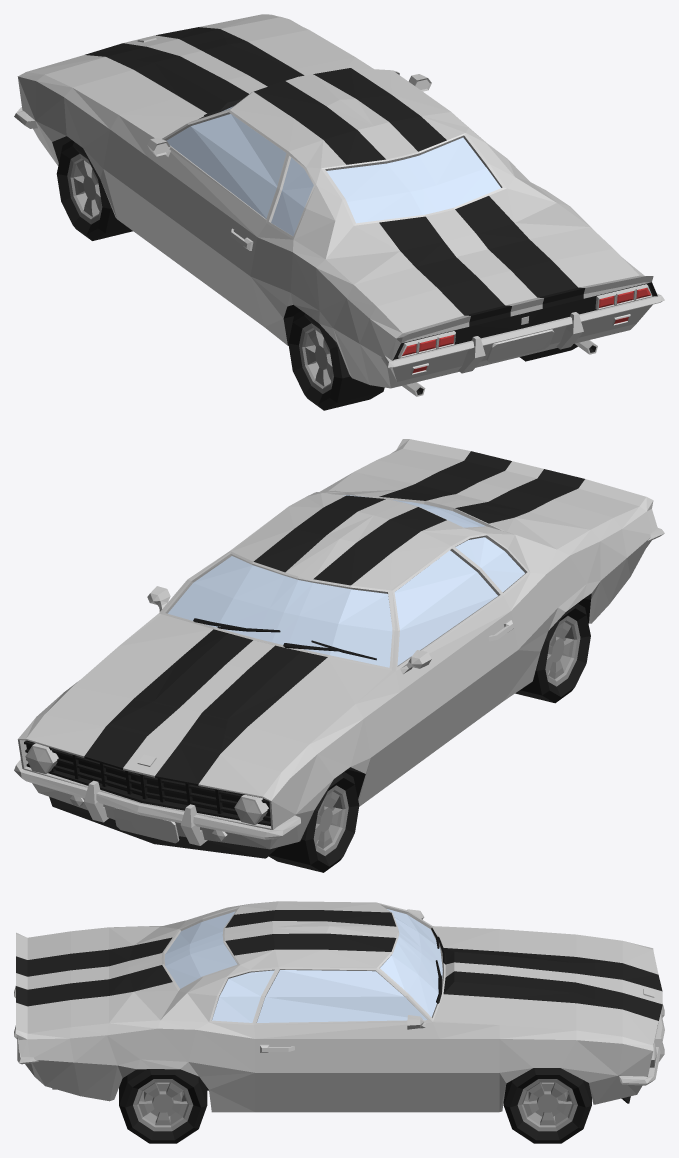
The model's file is Car_muscle_01_white_SkF.fbx.
3 views of the same model, one above another, from view 1: azimuth 30°, elevation 25°; view 2: azimuth 150°, elevation 25°; view 3: azimuth 270°, elevation 25° (orthographic). The views are drawn at different scales.
Visible parts, largest first — view 1: Muscle_car_01, Window, rear_wheel_left, front_wheel_left; view 2: Muscle_car_01, Window, front_wheel_left, rear_wheel_left; view 3: Muscle_car_01, Window, rear_wheel_right, front_wheel_right.
Part boxes in pixels (<box>): Muscle_car_01: <box>14,14,664,396</box>; Window: <box>166,106,500,236</box>; rear_wheel_left: <box>288,311,384,410</box>; front_wheel_left: <box>56,140,132,240</box>; Muscle_car_01: <box>14,439,664,858</box>; Window: <box>168,495,524,667</box>; front_wheel_left: <box>268,772,359,872</box>; rear_wheel_left: <box>515,603,590,703</box>; Muscle_car_01: <box>14,901,664,1112</box>; Window: <box>164,909,442,1022</box>; rear_wheel_right: <box>119,1069,207,1143</box>; front_wheel_right: <box>503,1068,591,1143</box>.
Bounding box in the file's own units: 200 × 138 × 487.
1 material, 1 textured.
